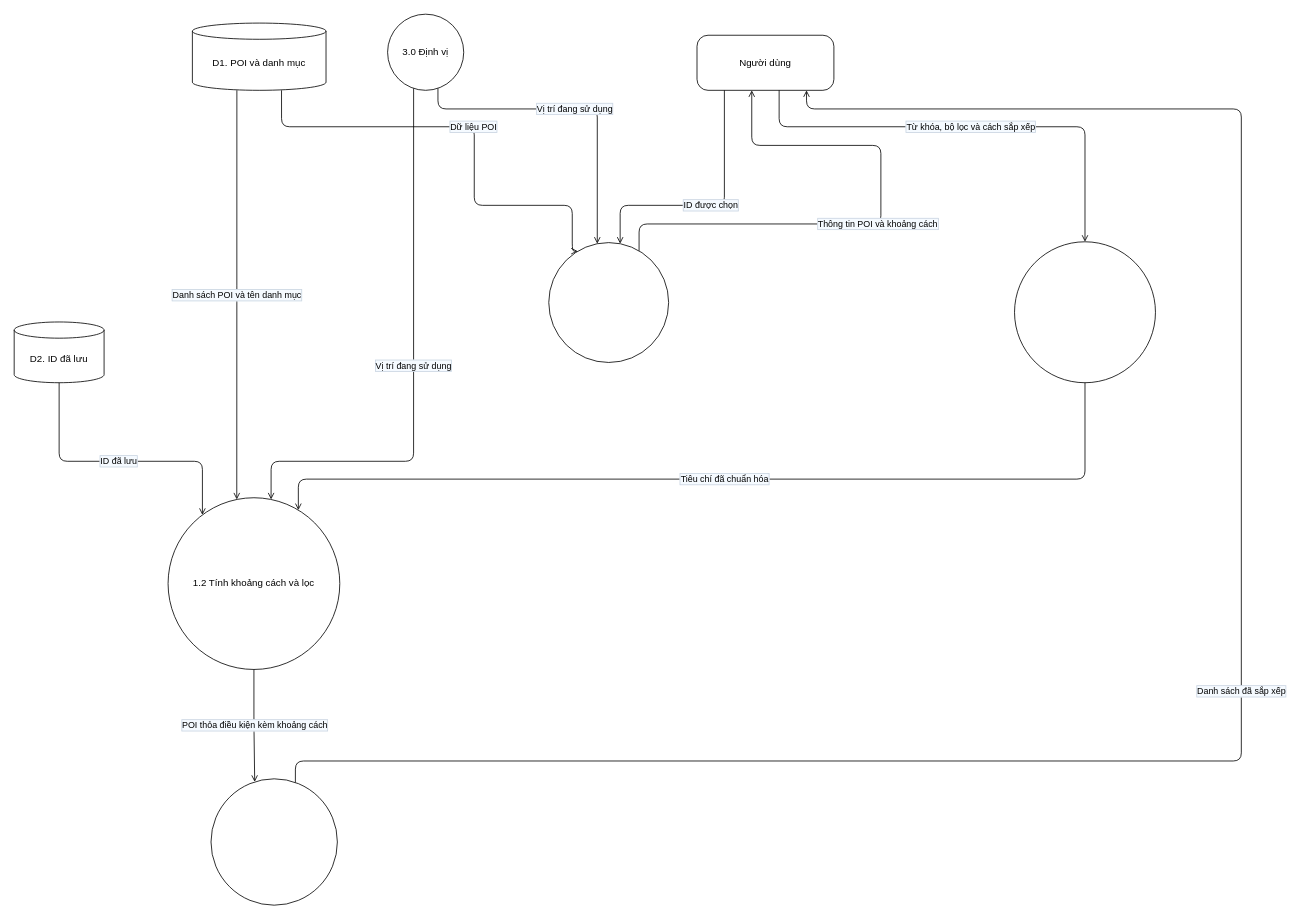
Some shapes in this 1300 by 919 pixel diagram are drawn without their labels. The shapes that lost their labels are listed below. From the top down, each one's box as (x1, y1, x2, y2) in pixels, then its label:
(548, 242, 669, 362): 1.4 Lấy chi tiết POI
(1014, 241, 1155, 383): 1.1 Chuẩn hóa tiêu chí
(210, 778, 337, 905): 1.3 Sắp xếp kết quả
